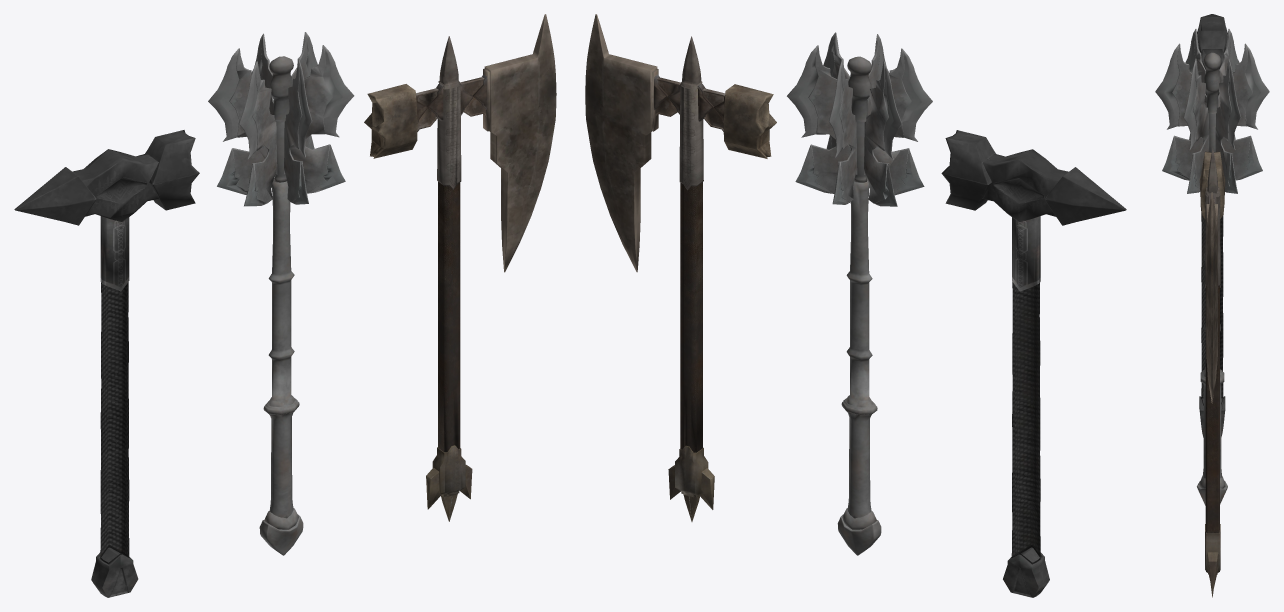
File: glb.glb
3 views of the same model, side by side, from view 1: azimuth 30°, elevation 25°; view 2: azimuth 150°, elevation 25°; view 3: azimuth 270°, elevation 25° (orthographic). The views are drawn at different scales.
Visible parts, largest first — view 1: Axe, Mage, Hammer; view 2: Axe, Mage, Hammer; view 3: Mage, Axe, Hammer.
Part boxes in pixels (x1,y1,x2,y2): Axe: [364, 14, 556, 521]; Mage: [208, 32, 354, 555]; Hammer: [14, 130, 199, 597]; Axe: [585, 14, 776, 521]; Mage: [787, 32, 932, 555]; Hammer: [941, 130, 1126, 597]; Mage: [1155, 29, 1269, 505]; Axe: [1199, 148, 1225, 597]; Hammer: [1197, 14, 1227, 437].
Size of the model in its own units: 1.05 by 0.9623 by 0.2089.
13 materials, 13 textured.
